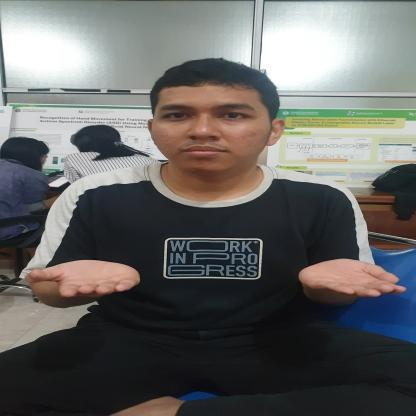Apa: (27, 257, 407, 304)
